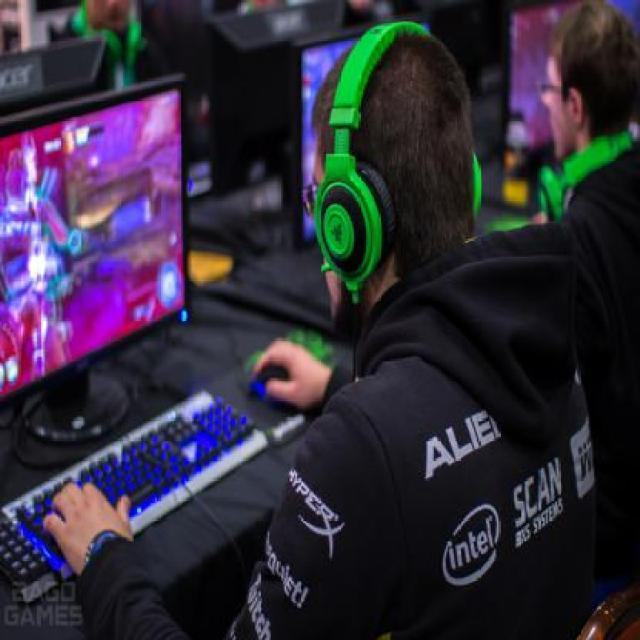earphone: (318, 28, 495, 300), (521, 126, 640, 225)
laptop_computer: (3, 67, 197, 363)
mouse: (254, 358, 298, 417)
